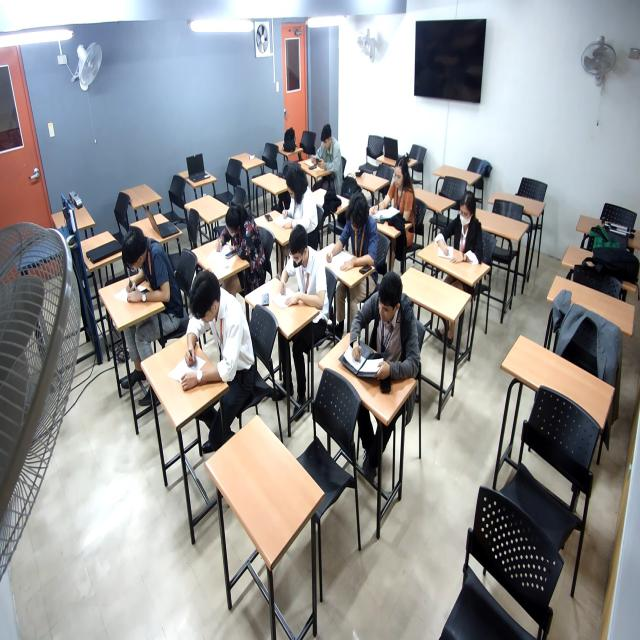read: (174, 265, 251, 398), (347, 269, 417, 384), (270, 232, 333, 319), (322, 200, 379, 281), (435, 196, 490, 271), (120, 228, 166, 312), (369, 163, 419, 234), (276, 169, 313, 248), (209, 208, 261, 263), (305, 128, 347, 178)
